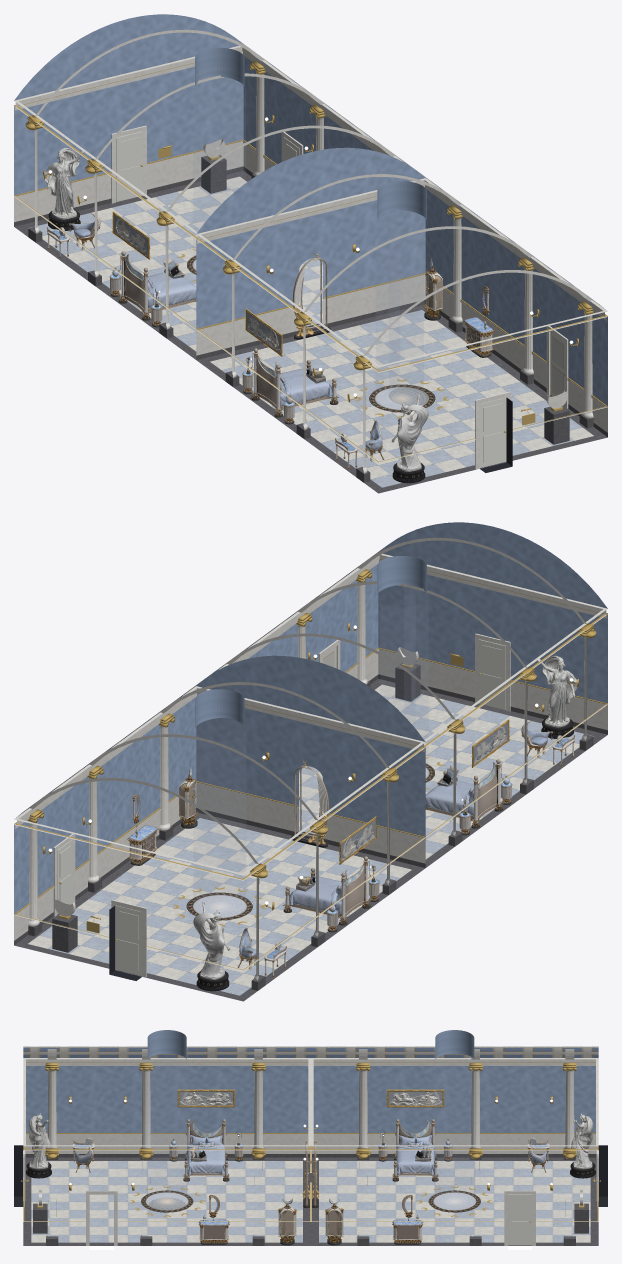
File: rdwe_god_selene.glb
3 views of the same model, one above another, from view 1: azimuth 30°, elevation 25°; view 2: azimuth 150°, elevation 25°; view 3: azimuth 270°, elevation 25° (orthographic). The views are drawn at different scales.
Parts seen in each view (by area): view 1: Wall_Plaster, refl_Wall_Plaster, Floor_Marble, White_Marble, refl_Floor_Marble, refl_White_Marble, Granite, Column_Marble, refl_Column_Marble, refl_Granite, Gold_Trim, Selene_SE-05_bed (+15 smaller); view 2: refl_Wall_Plaster, Wall_Plaster, refl_Floor_Marble, refl_White_Marble, Floor_Marble, White_Marble, refl_Granite, refl_Column_Marble, Column_Marble, Granite, refl_Gold_Trim, refl_Selene_SE-05_bed (+16 smaller); view 3: Floor_Marble, refl_Wall_Plaster, Wall_Plaster, refl_Floor_Marble, refl_White_Marble, White_Marble, Granite, refl_Granite, refl_Vault_Coffers, Vault_Coffers, Column_Marble, refl_Column_Marble (+18 smaller).
Boxes of the visible parts, x1,y1,x2,y2 form: Wall_Plaster: (196,147,607,406); refl_Wall_Plaster: (14,14,373,196); Floor_Marble: (210,310,593,487); White_Marble: (196,178,607,469); refl_Floor_Marble: (28,176,322,351); refl_White_Marble: (14,46,403,329); Granite: (196,299,607,493); Column_Marble: (232,174,593,473); refl_Column_Marble: (34,29,394,329); refl_Granite: (14,155,254,359); Gold_Trim: (196,184,607,462); Selene_SE-05_bed: (251,348,339,417); refl_Wall_Plaster: (14,655,425,914); Wall_Plaster: (248,522,607,704); refl_Floor_Marble: (28,818,411,995); refl_White_Marble: (14,686,425,977); Floor_Marble: (299,684,593,859); White_Marble: (218,554,607,837); refl_Granite: (14,807,425,1001); refl_Column_Marble: (28,682,389,981); Column_Marble: (227,537,587,837); Granite: (367,663,607,867); refl_Gold_Trim: (14,692,425,970); refl_Selene_SE-05_bed: (282,856,370,925); Floor_Marble: (31,1161,302,1242); refl_Wall_Plaster: (313,1030,595,1132); Wall_Plaster: (26,1030,308,1132); refl_Floor_Marble: (319,1161,590,1242); refl_White_Marble: (311,1058,598,1245); White_Marble: (23,1058,310,1245); Granite: (23,1154,310,1245); refl_Granite: (311,1154,598,1245); refl_Vault_Coffers: (311,1046,598,1057); Vault_Coffers: (23,1046,310,1057); Column_Marble: (39,1049,263,1236); refl_Column_Marble: (358,1049,582,1236).
Size of the model in its own units: 8.56 by 6.9 by 22.72.
36 materials, 26 textured.
